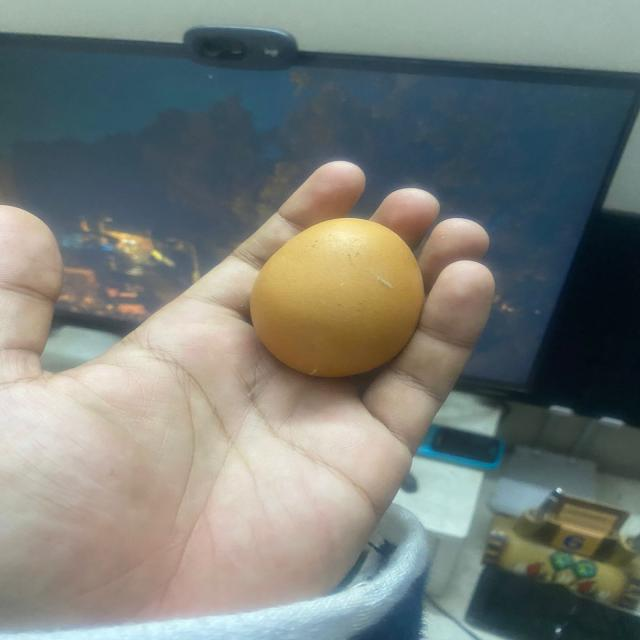Egg: (242, 205, 434, 385)
